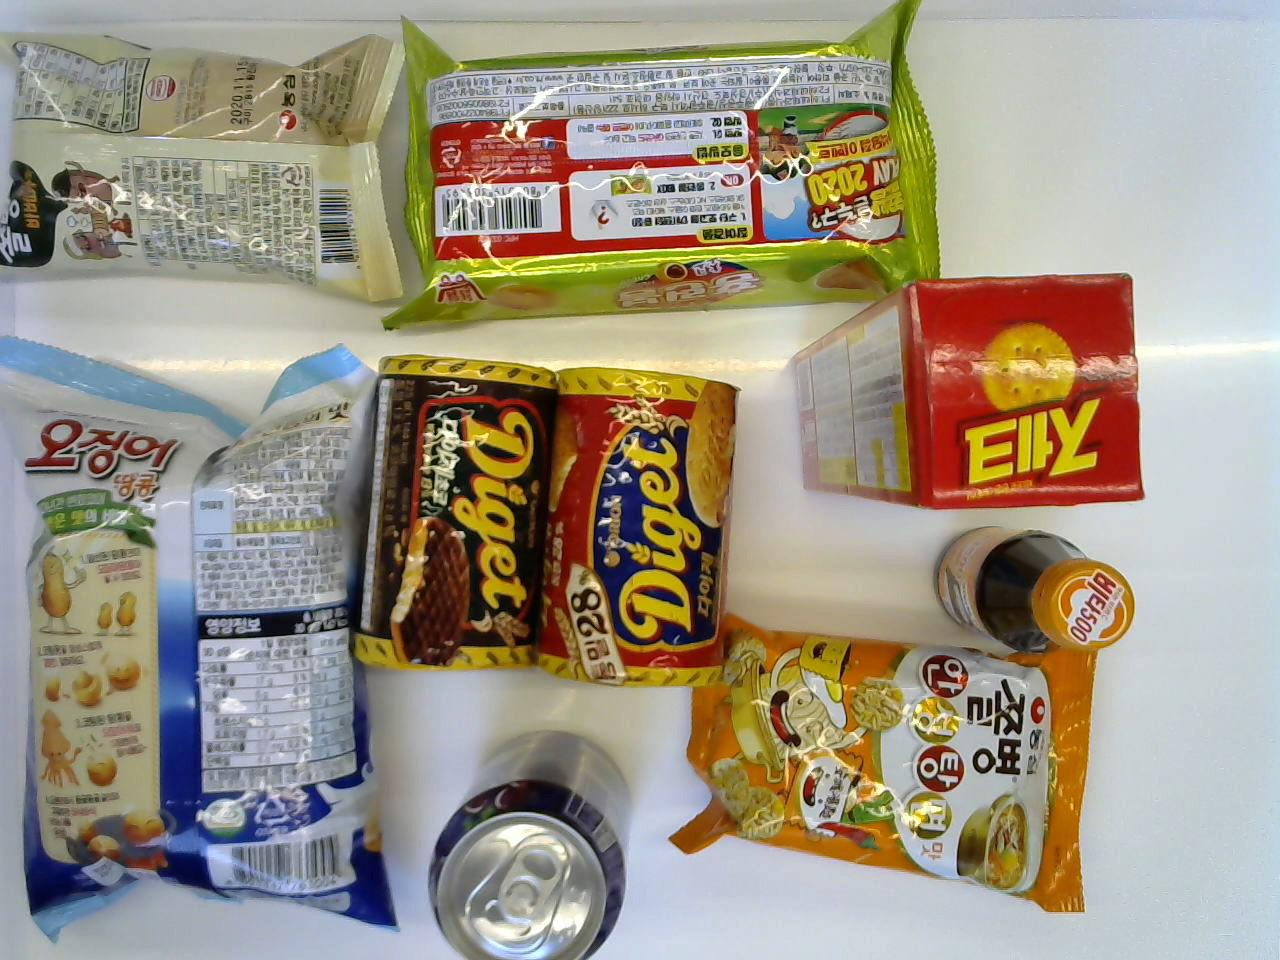diget_choco: (348, 350, 549, 684)
diget_ori: (532, 359, 740, 688)
homerunball: (364, 0, 949, 330)
jjolbyung_noodle: (671, 607, 1097, 916), (423, 725, 641, 960)
jjolbyung_ori: (0, 16, 416, 302)
squid_peanut: (0, 318, 394, 941)
vita500: (930, 514, 1135, 659)
welchs: (423, 725, 641, 960)
zec: (783, 267, 1145, 511)
